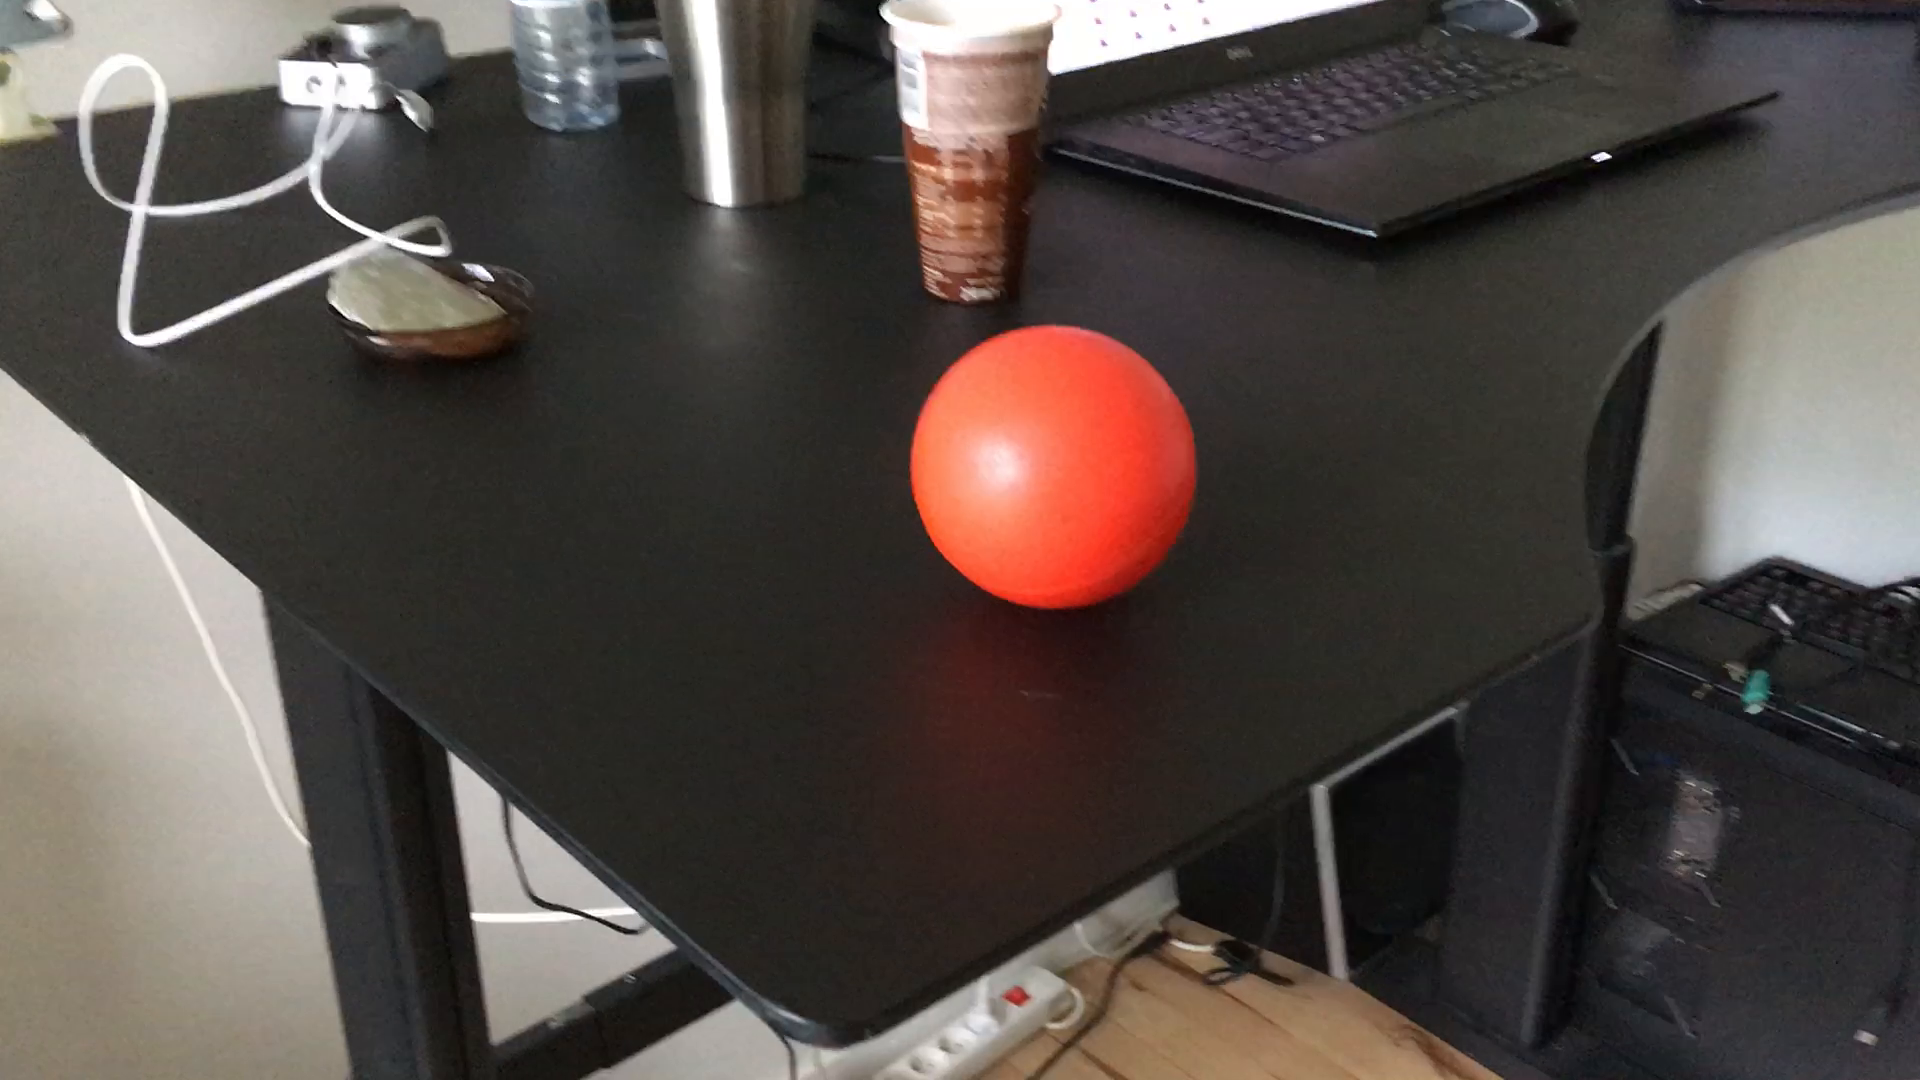Ball: (914, 326, 1193, 603)
